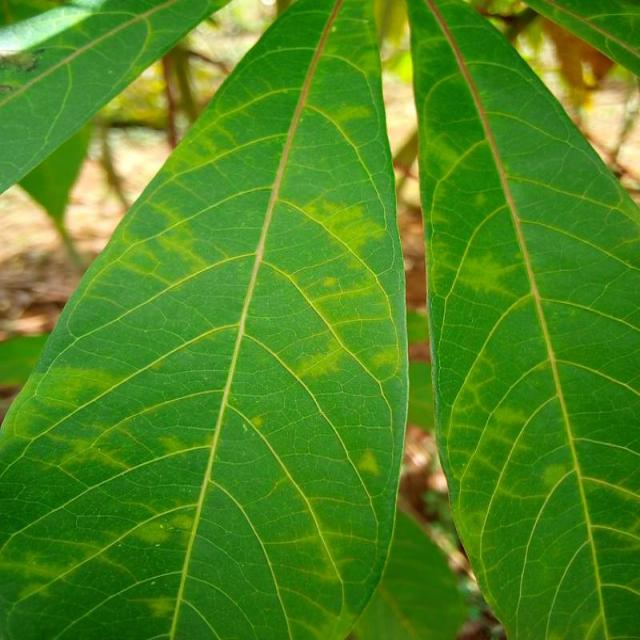cassava leaf: (0, 0, 410, 638), (405, 0, 638, 638)
